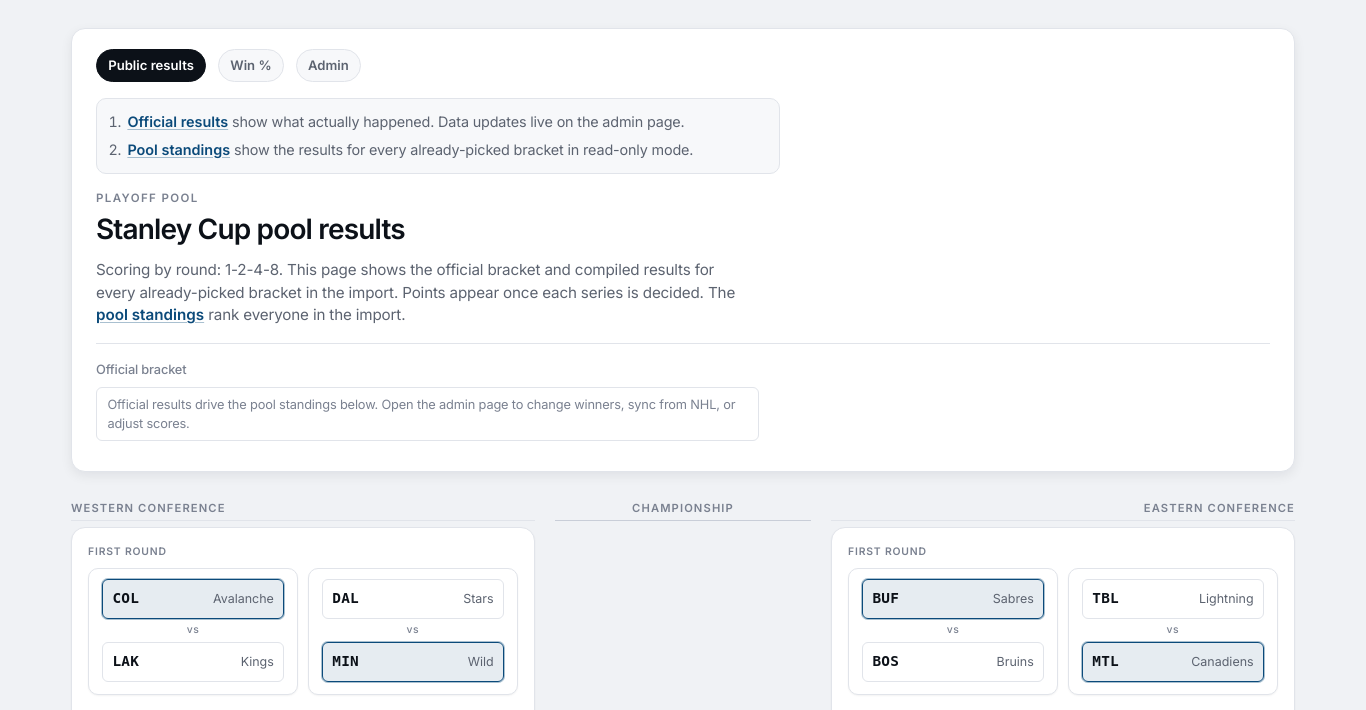
it: App navigation and Win % tab › opens the Win % tab and renders the projection table
Click the button "Win %".
click(251, 65)  # box [218,49,284,82]
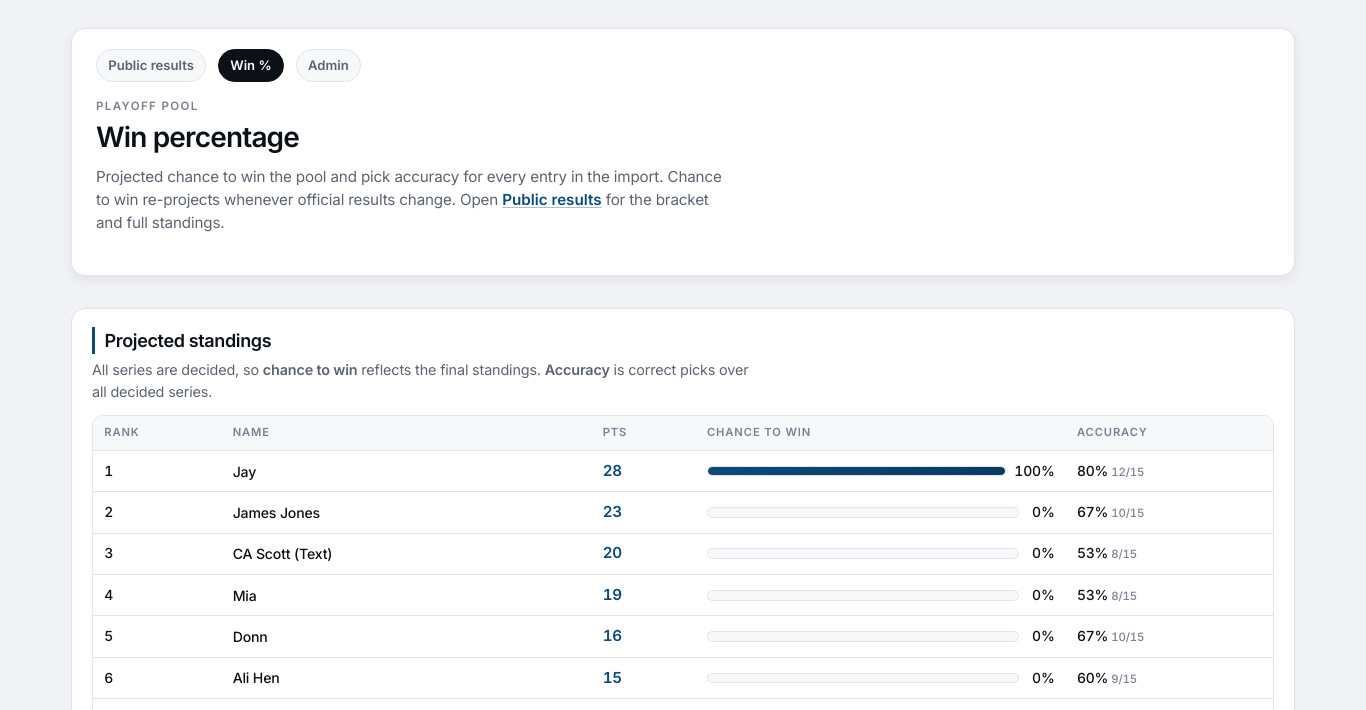
Check: the heading "Win percentage" is shown, box [96,121,299,154]
Check: the heading "Projected standings" is shown, box [92,327,1274,354]
Check: the column heading "Pts" is shown, box [591,416,696,450]
